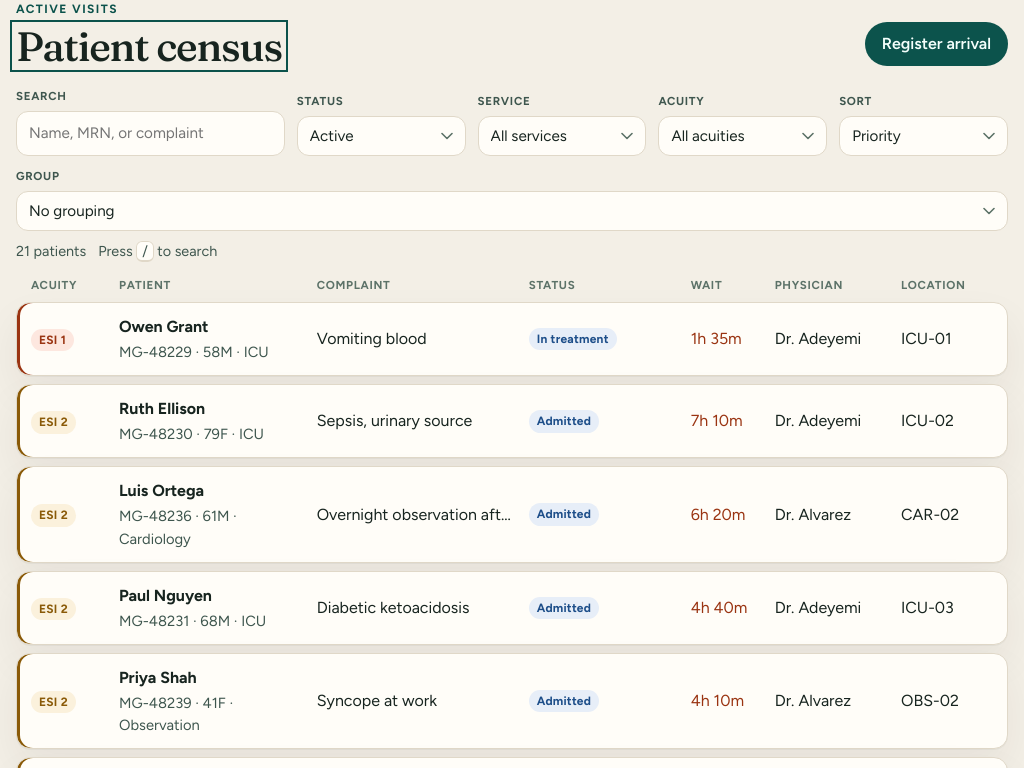
Test: census screen › shows an empty state when the search matches nobody
Type "zzzz" into the search field labelled "Search" at (150, 134), box [16,111,285,156]
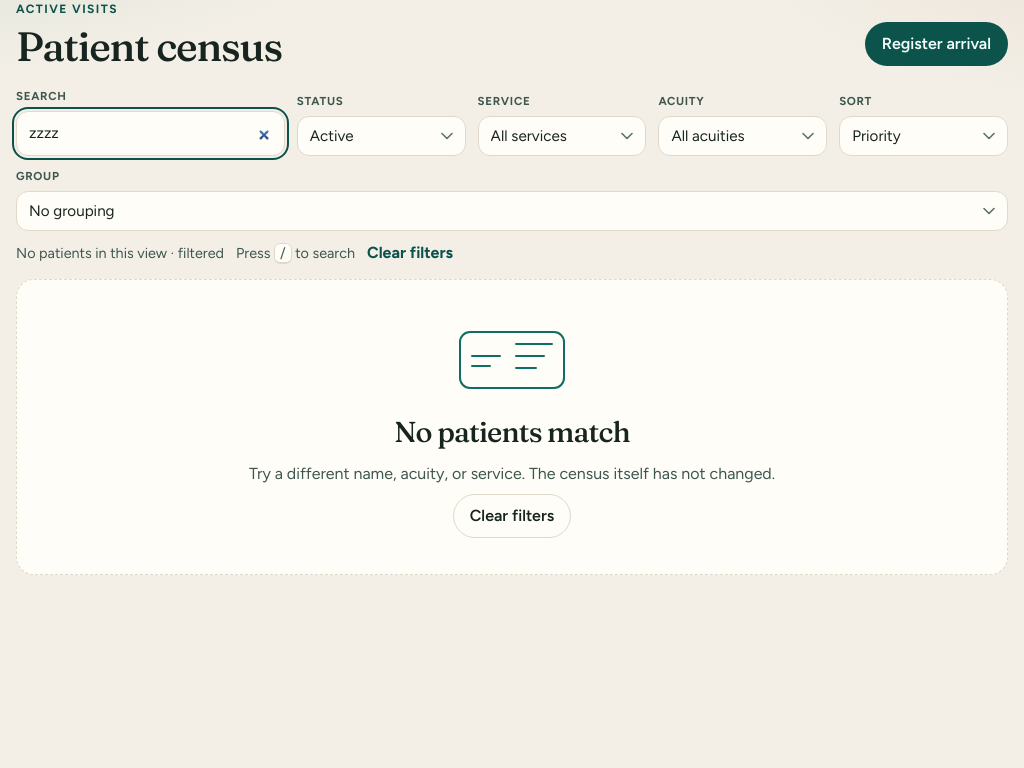
Now the heading "No patients match" is shown, box [394,410,630,454]
